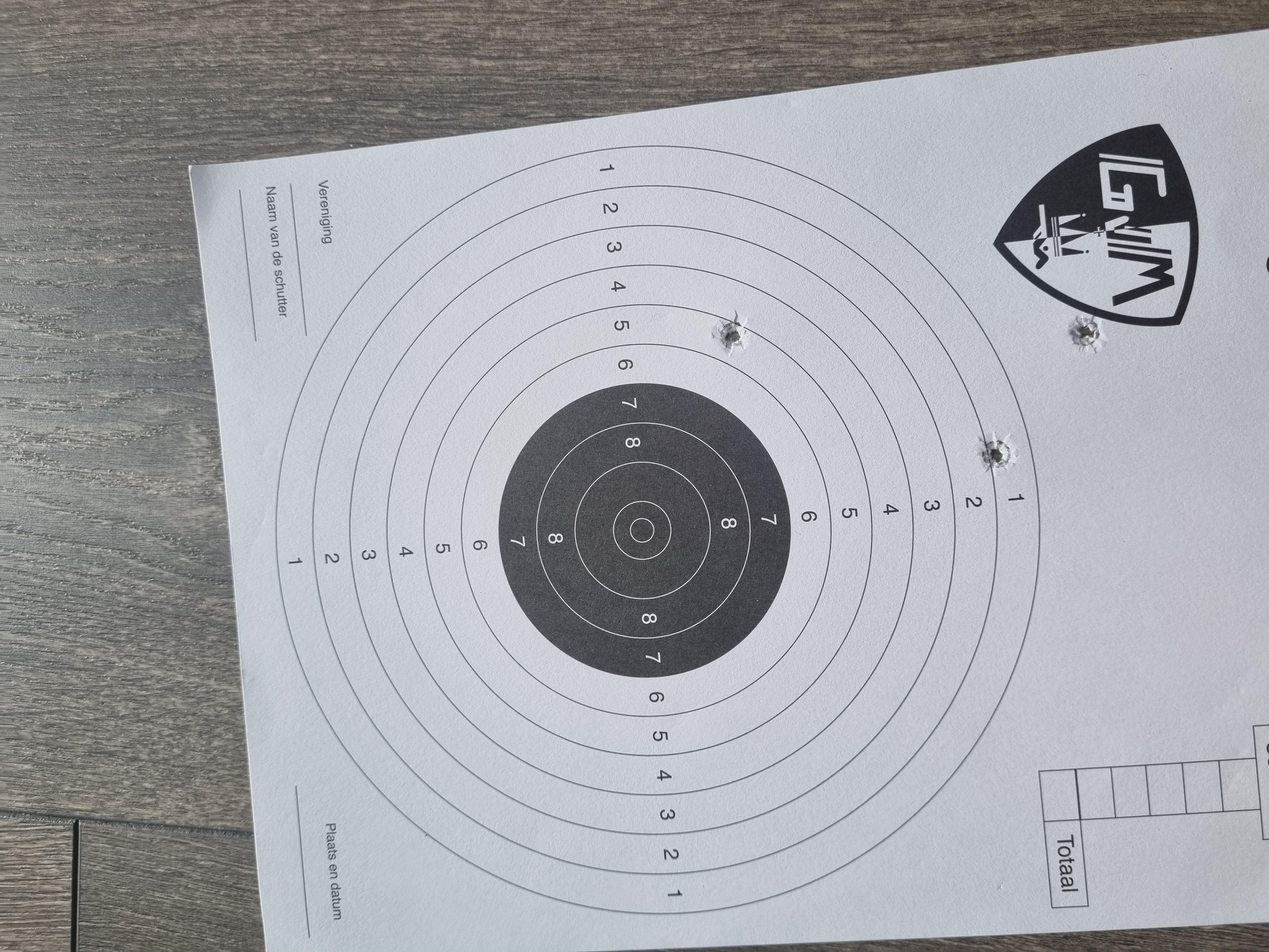hole: (797, 799, 852, 830), (796, 535, 857, 561), (637, 734, 691, 761)
